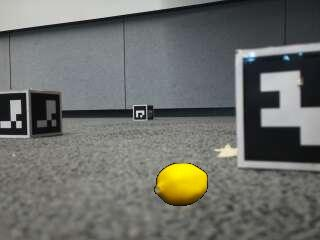lemon: (155, 165, 206, 206)
